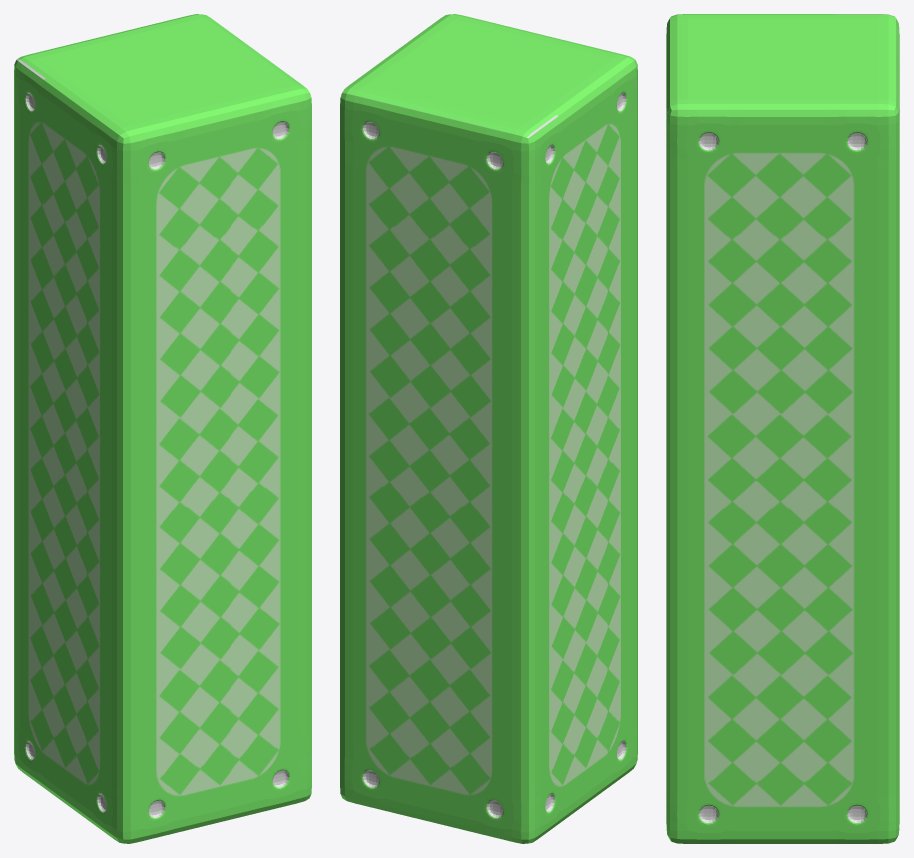
File: marioBlocky_test.fbx
3 renders of one model, left to right at view 1: azimuth 30°, elevation 25°; view 2: azimuth 150°, elevation 25°; view 3: azimuth 270°, elevation 25°, orthographic. The views are drawn at different scales.
Parts seen in each view (by area): view 1: Cube; view 2: Cube; view 3: Cube.
Boxes of the visible parts, x1=… form: Cube: x1=14, y1=14, x2=311, y2=843; Cube: x1=340, y1=14, x2=637, y2=843; Cube: x1=666, y1=14, x2=899, y2=843.
Bounding box in the file's own units: 2000 × 7000 × 2000.
1 material, 1 textured.
